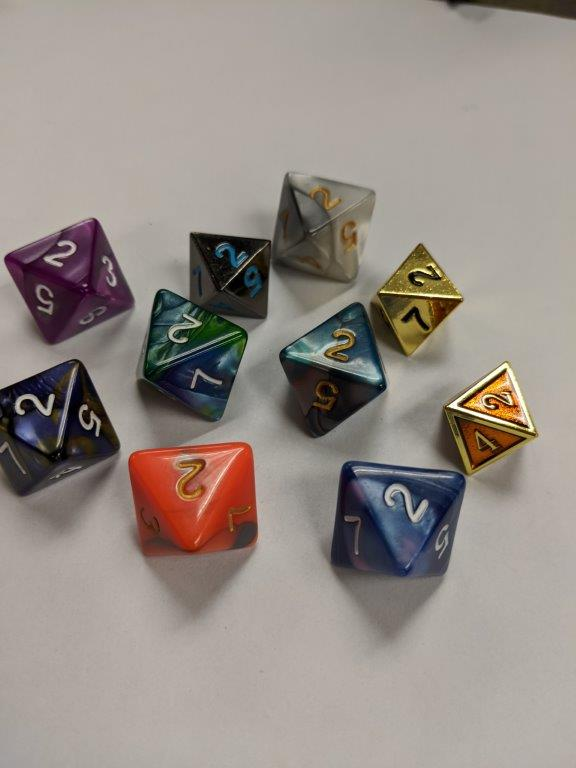d8-2: (2, 217, 137, 346), (1, 353, 122, 494), (330, 458, 465, 578), (133, 284, 246, 421), (277, 303, 390, 439), (129, 442, 259, 558), (442, 358, 541, 478), (270, 169, 374, 282), (372, 243, 468, 361), (186, 228, 272, 321)
